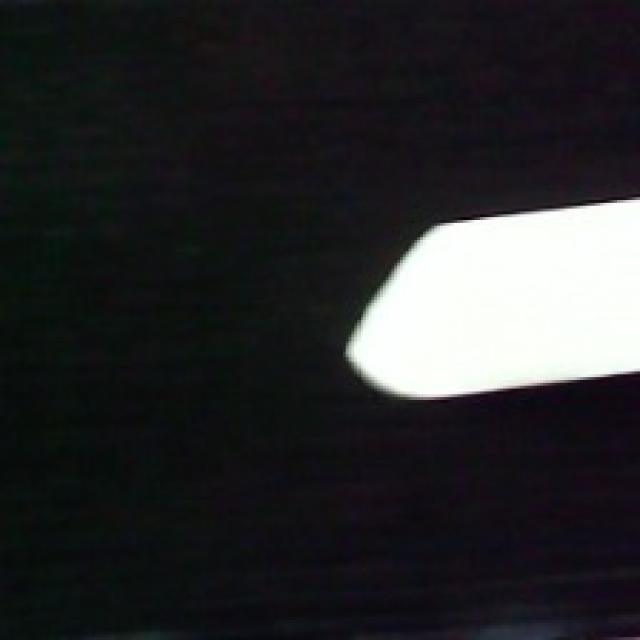defected: (343, 194, 640, 406)
